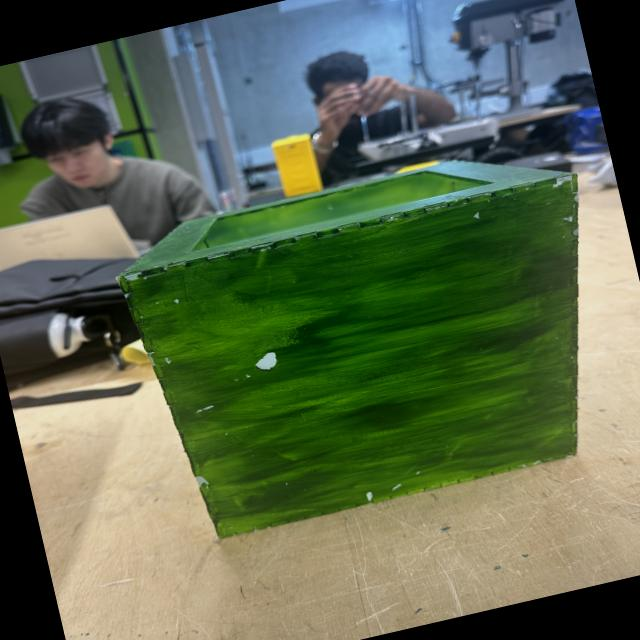green_bin: (107, 130, 640, 551)
